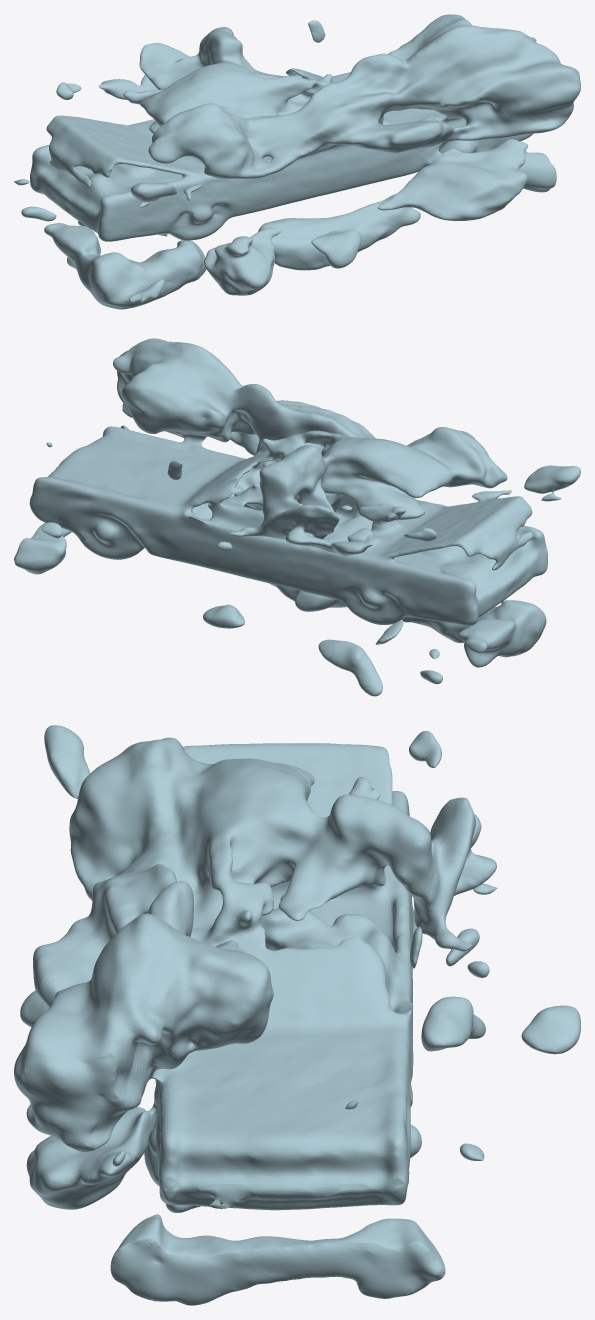
The model's file is capudf_long_car.glb.
3 renders of one model, top to bottom at view 1: azimuth 30°, elevation 25°; view 2: azimuth 150°, elevation 25°; view 3: azimuth 270°, elevation 25°, orthographic. The views are drawn at different scales.
Visible parts, largest first — view 1: capudf_long_car.ply; view 2: capudf_long_car.ply; view 3: capudf_long_car.ply.
Boxes of the visible parts, x1,y1,x2,y2 form: capudf_long_car.ply: (14, 14, 580, 309); capudf_long_car.ply: (14, 338, 580, 696); capudf_long_car.ply: (14, 725, 580, 1305).
Bounding box in the file's own units: 1.03 × 0.4712 × 0.6739.
